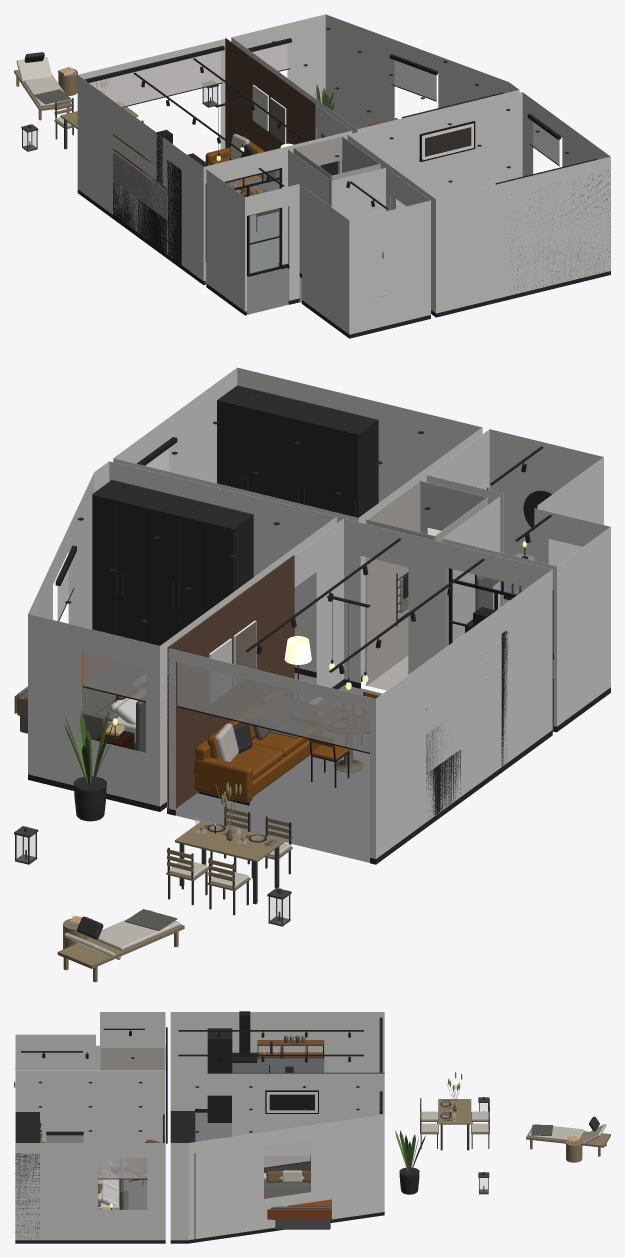
File: unit-0.B-urban.glb
3 views of the same model, one above another, from view 1: azimuth 30°, elevation 25°; view 2: azimuth 150°, elevation 25°; view 3: azimuth 270°, elevation 25° (orthographic). The views are drawn at different scales.
Visible parts, largest first — view 1: int-wall, int-sheer, int-feature, int-matteBlack, int-glass, int-joineryTall, int-bathWall, int-skirting, int-joinery, int-hallFloor, int-floor, int-splash (+12 smaller); view 2: int-wall, int-joineryTall, int-sheer, int-floor, int-feature, int-bathWall, int-teak, int-sofa, int-glass, int-outdoor, int-skirting, int-outCushion (+10 smaller); view 3: int-wall, int-joineryTall, int-sheer, int-teak, int-matteBlack, int-bathWall, int-skirting, int-floor, int-outCushion, int-splash, int-inst-track|matteBlack, int-headboard (+10 smaller).
Part boxes in pixels (<box>): int-wall: <box>77,14,610,334</box>; int-sheer: <box>89,43,559,165</box>; int-feature: <box>225,38,315,151</box>; int-matteBlack: <box>84,38,560,257</box>; int-glass: <box>23,87,279,273</box>; int-joineryTall: <box>167,92,610,298</box>; int-bathWall: <box>293,136,380,206</box>; int-skirting: <box>77,189,610,338</box>; int-joinery: <box>113,181,166,253</box>; int-hallFloor: <box>247,268,301,314</box>; int-floor: <box>205,161,278,283</box>; int-splash: <box>113,152,166,218</box>; int-wall: <box>28,367,610,858</box>; int-joineryTall: <box>92,385,508,772</box>; int-sheer: <box>57,445,369,752</box>; int-floor: <box>175,673,382,862</box>; int-feature: <box>167,555,294,814</box>; int-bathWall: <box>366,480,488,685</box>; int-teak: <box>57,807,292,982</box>; int-sofa: <box>194,720,321,802</box>; int-glass: <box>16,569,526,923</box>; int-outdoor: <box>14,806,291,926</box>; int-skirting: <box>28,595,610,864</box>; int-outCushion: <box>64,843,291,959</box>; int-wall: <box>15,1012,384,1240</box>; int-joineryTall: <box>15,1028,232,1243</box>; int-sheer: <box>98,1140,310,1178</box>; int-teak: <box>420,1099,610,1162</box>; int-matteBlack: <box>42,1011,382,1209</box>; int-bathWall: <box>100,1048,165,1070</box>; int-skirting: <box>15,1109,384,1243</box>; int-floor: <box>123,1112,231,1209</box>; int-outCushion: <box>420,1111,606,1143</box>; int-splash: <box>232,1058,324,1072</box>; int-inst-track|matteBlack: <box>21,1028,363,1056</box>; int-headboard: <box>119,1155,330,1229</box>.
Bounding box in the file's own units: 7.52 × 2.82 × 14.46.
